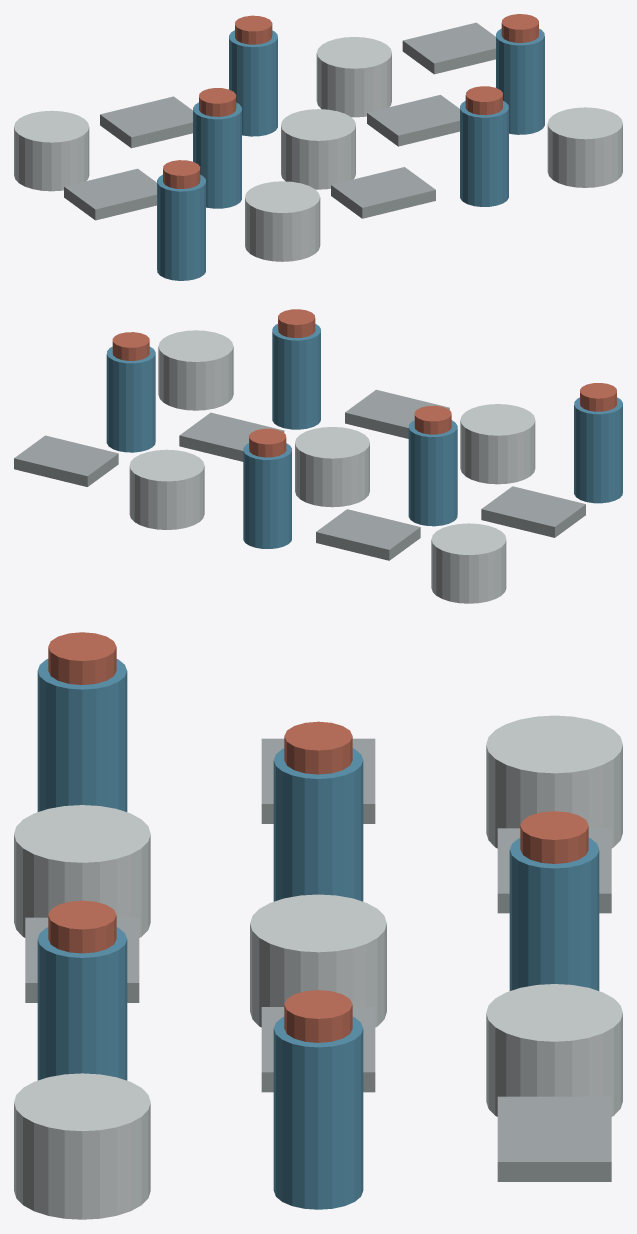
The picture shows the model from 3 angles, top to bottom: view 1: azimuth 30°, elevation 25°; view 2: azimuth 150°, elevation 25°; view 3: azimuth 270°, elevation 25°; orthographic projection. The views are drawn at different scales.
Visible parts, largest first — view 1: CR-012_StackedBowl_002, CR-012_StackedBowl_006, CR-012_StackedBowl_014, CR-012_StackedBowl_018, CR-012_StackedBowl_010, CR-012_SauceBottle_000, CR-012_SauceBottle_004, CR-012_SauceBottle_016, CR-012_SauceBottle_012, CR-012_SauceBottle_008, CR-012_WornTray_003, CR-012_WornTray_019 (+8 smaller); view 2: CR-012_StackedBowl_006, CR-012_StackedBowl_014, CR-012_StackedBowl_018, CR-012_StackedBowl_002, CR-012_StackedBowl_010, CR-012_SauceBottle_012, CR-012_SauceBottle_008, CR-012_SauceBottle_000, CR-012_SauceBottle_016, CR-012_SauceBottle_004, CR-012_WornTray_007, CR-012_WornTray_015 (+8 smaller); view 3: CR-012_StackedBowl_006, CR-012_SauceBottle_012, CR-012_StackedBowl_018, CR-012_StackedBowl_014, CR-012_StackedBowl_002, CR-012_StackedBowl_010, CR-012_SauceBottle_008, CR-012_SauceBottle_004, CR-012_SauceBottle_000, CR-012_SauceBottle_016, CR-012_WornTray_019, CR-012_Cap_013 (+8 smaller).
Part boxes in pixels (x1=…): CR-012_StackedBowl_002: x1=245, y1=181, x2=320, y2=261; CR-012_StackedBowl_006: x1=547, y1=107, x2=622, y2=187; CR-012_StackedBowl_014: x1=14, y1=110, x2=89, y2=191; CR-012_StackedBowl_018: x1=316, y1=37, x2=391, y2=117; CR-012_StackedBowl_010: x1=281, y1=109, x2=355, y2=189; CR-012_SauceBottle_000: x1=157, y1=174, x2=205, y2=280; CR-012_SauceBottle_004: x1=460, y1=101, x2=508, y2=206; CR-012_SauceBottle_016: x1=229, y1=30, x2=277, y2=136; CR-012_SauceBottle_012: x1=496, y1=28, x2=544, y2=134; CR-012_SauceBottle_008: x1=193, y1=102, x2=241, y2=208; CR-012_WornTray_003: x1=331, y1=167, x2=435, y2=218; CR-012_WornTray_019: x1=402, y1=22, x2=495, y2=74; CR-012_StackedBowl_006: x1=158, y1=330, x2=233, y2=410; CR-012_StackedBowl_014: x1=431, y1=523, x2=506, y2=603; CR-012_StackedBowl_018: x1=129, y1=449, x2=204, y2=529; CR-012_StackedBowl_002: x1=460, y1=404, x2=535, y2=484; CR-012_StackedBowl_010: x1=295, y1=427, x2=369, y2=507; CR-012_SauceBottle_012: x1=106, y1=346, x2=155, y2=452; CR-012_SauceBottle_008: x1=408, y1=420, x2=457, y2=526; CR-012_SauceBottle_000: x1=574, y1=397, x2=622, y2=503; CR-012_SauceBottle_016: x1=243, y1=443, x2=291, y2=548; CR-012_SauceBottle_004: x1=272, y1=324, x2=320, y2=429; CR-012_WornTray_007: x1=481, y1=486, x2=585, y2=537; CR-012_WornTray_015: x1=316, y1=509, x2=420, y2=560; CR-012_StackedBowl_006: x1=14, y1=1073, x2=150, y2=1219; CR-012_SauceBottle_012: x1=273, y1=1017, x2=363, y2=1209; CR-012_StackedBowl_018: x1=486, y1=984, x2=622, y2=1116; CR-012_StackedBowl_014: x1=486, y1=715, x2=622, y2=848; CR-012_StackedBowl_002: x1=14, y1=805, x2=150, y2=937; CR-012_StackedBowl_010: x1=250, y1=894, x2=386, y2=1027; CR-012_SauceBottle_008: x1=273, y1=748, x2=363, y2=901; CR-012_SauceBottle_004: x1=37, y1=927, x2=127, y2=1080; CR-012_SauceBottle_000: x1=37, y1=659, x2=127, y2=811; CR-012_SauceBottle_016: x1=509, y1=838, x2=599, y2=990; CR-012_WornTray_019: x1=497, y1=1096, x2=611, y2=1181; CR-012_Cap_013: x1=284, y1=990, x2=352, y2=1042.
Bounding box in the file's own units: 1.23 × 0.2525 × 0.748.
